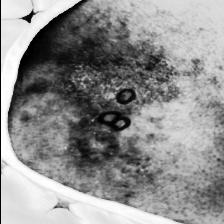Potentially Malignant Skin Tumors: (66, 57, 110, 104), (80, 130, 114, 156), (140, 78, 172, 102)
